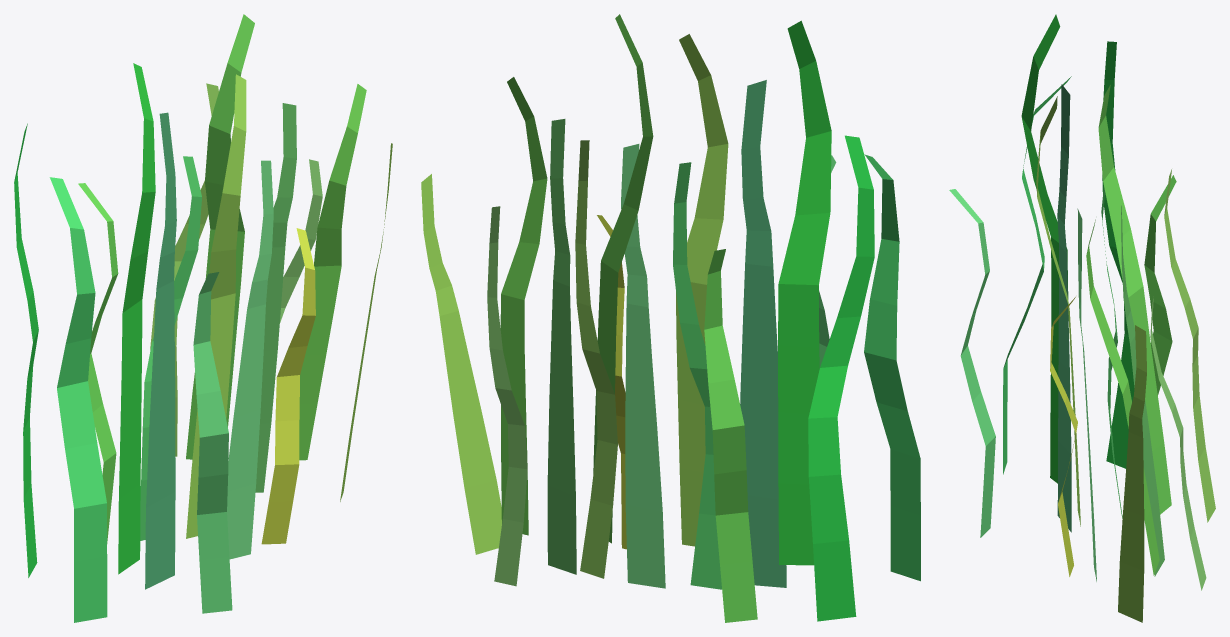
The model's file is glass.fbx.
3 views of the same model, side by side, from view 1: azimuth 30°, elevation 25°; view 2: azimuth 150°, elevation 25°; view 3: azimuth 270°, elevation 25° (orthographic). The views are drawn at different scales.
Visible parts, largest first — view 1: 平面.002, 平面.003, 平面, 平面.005, 平面.004, 平面.008, 平面.007, 平面.010, 平面.015, 平面.012, 平面.006, 平面.001 (+4 smaller); view 2: 平面, 平面.003, 平面.001, 平面.004, 平面.002, 平面.007, 平面.013, 平面.012, 平面.011, 平面.014, 平面.008, 平面.006 (+3 smaller); view 3: 平面.015, 平面.011, 平面.003, 平面, 平面.001, 平面.005, 平面.014, 平面.013, 平面.008, 平面.012, 平面.009, 平面.002 (+4 smaller).
Part boxes in pixels (x1,y1,x2,y2): 平面.002: (49, 177, 107, 622); 平面.003: (145, 112, 176, 589); 平面: (118, 63, 155, 574); 平面.005: (193, 272, 232, 613); 平面.004: (227, 160, 273, 559); 平面.008: (299, 84, 366, 460); 平面.007: (186, 74, 246, 538); 平面.010: (261, 228, 315, 544); 平面.015: (186, 14, 254, 459); 平面.012: (255, 103, 296, 492); 平面.006: (140, 156, 201, 540); 平面.001: (14, 123, 38, 577); 平面: (778, 20, 831, 565); 平面.003: (740, 80, 786, 587); 平面.001: (808, 135, 874, 621); 平面.004: (621, 144, 665, 588); 平面.002: (864, 154, 920, 581); 平面.007: (676, 34, 728, 546); 平面.013: (704, 249, 757, 622); 平面.012: (547, 119, 576, 574); 平面.011: (421, 174, 501, 554); 平面.014: (575, 140, 617, 578); 平面.008: (500, 77, 547, 535); 平面.006: (673, 162, 721, 589); 平面.015: (1098, 85, 1171, 514); 平面.011: (1118, 325, 1146, 622); 平面.003: (1057, 84, 1071, 532); 平面: (1021, 14, 1068, 483); 平面.001: (1102, 41, 1134, 468); 平面.005: (949, 189, 995, 537); 平面.014: (1164, 169, 1215, 522); 平面.013: (1144, 175, 1176, 394); 平面.008: (1086, 219, 1159, 575); 平面.012: (1121, 205, 1164, 576); 平面.009: (1150, 296, 1206, 590); 平面.002: (1003, 76, 1071, 474).
Bounding box in the file's own units: 156 × 202 × 96.55.
